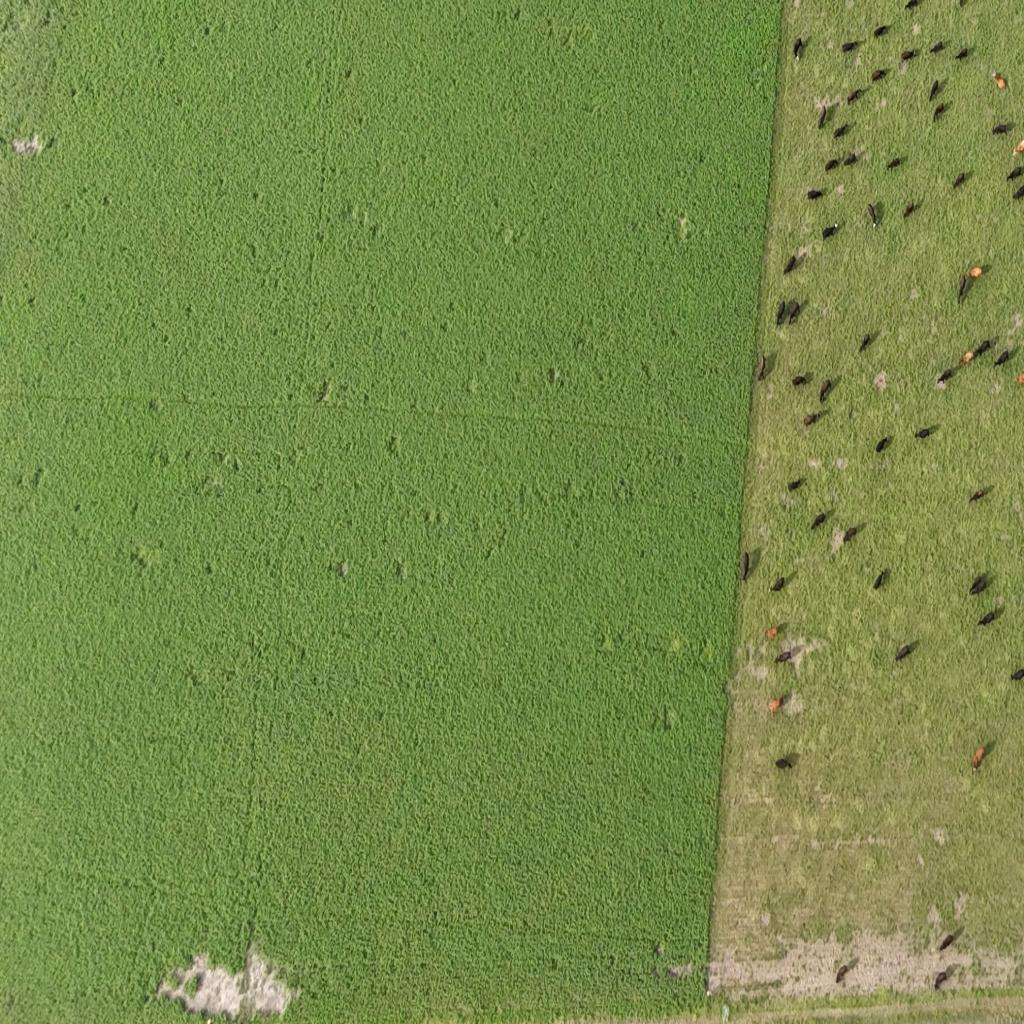cow: (957, 266, 982, 307), (787, 248, 808, 272), (936, 966, 958, 988), (768, 692, 788, 714), (775, 755, 798, 774), (977, 608, 998, 628), (939, 931, 959, 952), (969, 574, 987, 596), (973, 744, 987, 772), (894, 644, 913, 664), (974, 339, 993, 359), (787, 300, 801, 326), (842, 525, 860, 545), (819, 378, 832, 404), (836, 963, 852, 984), (899, 52, 915, 73), (936, 368, 954, 386), (804, 410, 824, 426), (994, 348, 1010, 368), (858, 332, 872, 354), (833, 122, 850, 140), (775, 648, 793, 665), (810, 512, 826, 531), (872, 572, 888, 591), (793, 37, 805, 62), (822, 223, 838, 241), (876, 436, 892, 454), (954, 46, 972, 62), (867, 202, 878, 228), (776, 300, 787, 326), (969, 488, 988, 503), (783, 254, 797, 274), (741, 550, 750, 581), (953, 171, 968, 189), (929, 78, 940, 102), (1006, 169, 1022, 185), (792, 374, 810, 388), (904, 200, 917, 219), (933, 103, 946, 122), (847, 89, 863, 104), (886, 156, 902, 171), (874, 24, 889, 40), (915, 427, 933, 440), (757, 353, 765, 381), (807, 188, 823, 202), (844, 151, 858, 167), (824, 159, 840, 173), (872, 69, 888, 83), (770, 576, 784, 592), (958, 283, 968, 305), (818, 105, 827, 129), (992, 124, 1010, 136), (842, 41, 858, 54), (788, 479, 804, 492), (930, 41, 946, 54), (993, 75, 1006, 91), (963, 349, 975, 364), (968, 266, 983, 278), (764, 626, 777, 639), (905, 1, 920, 11), (1015, 666, 1024, 681), (958, 0, 970, 9), (1018, 138, 1024, 155), (1019, 374, 1024, 386)
